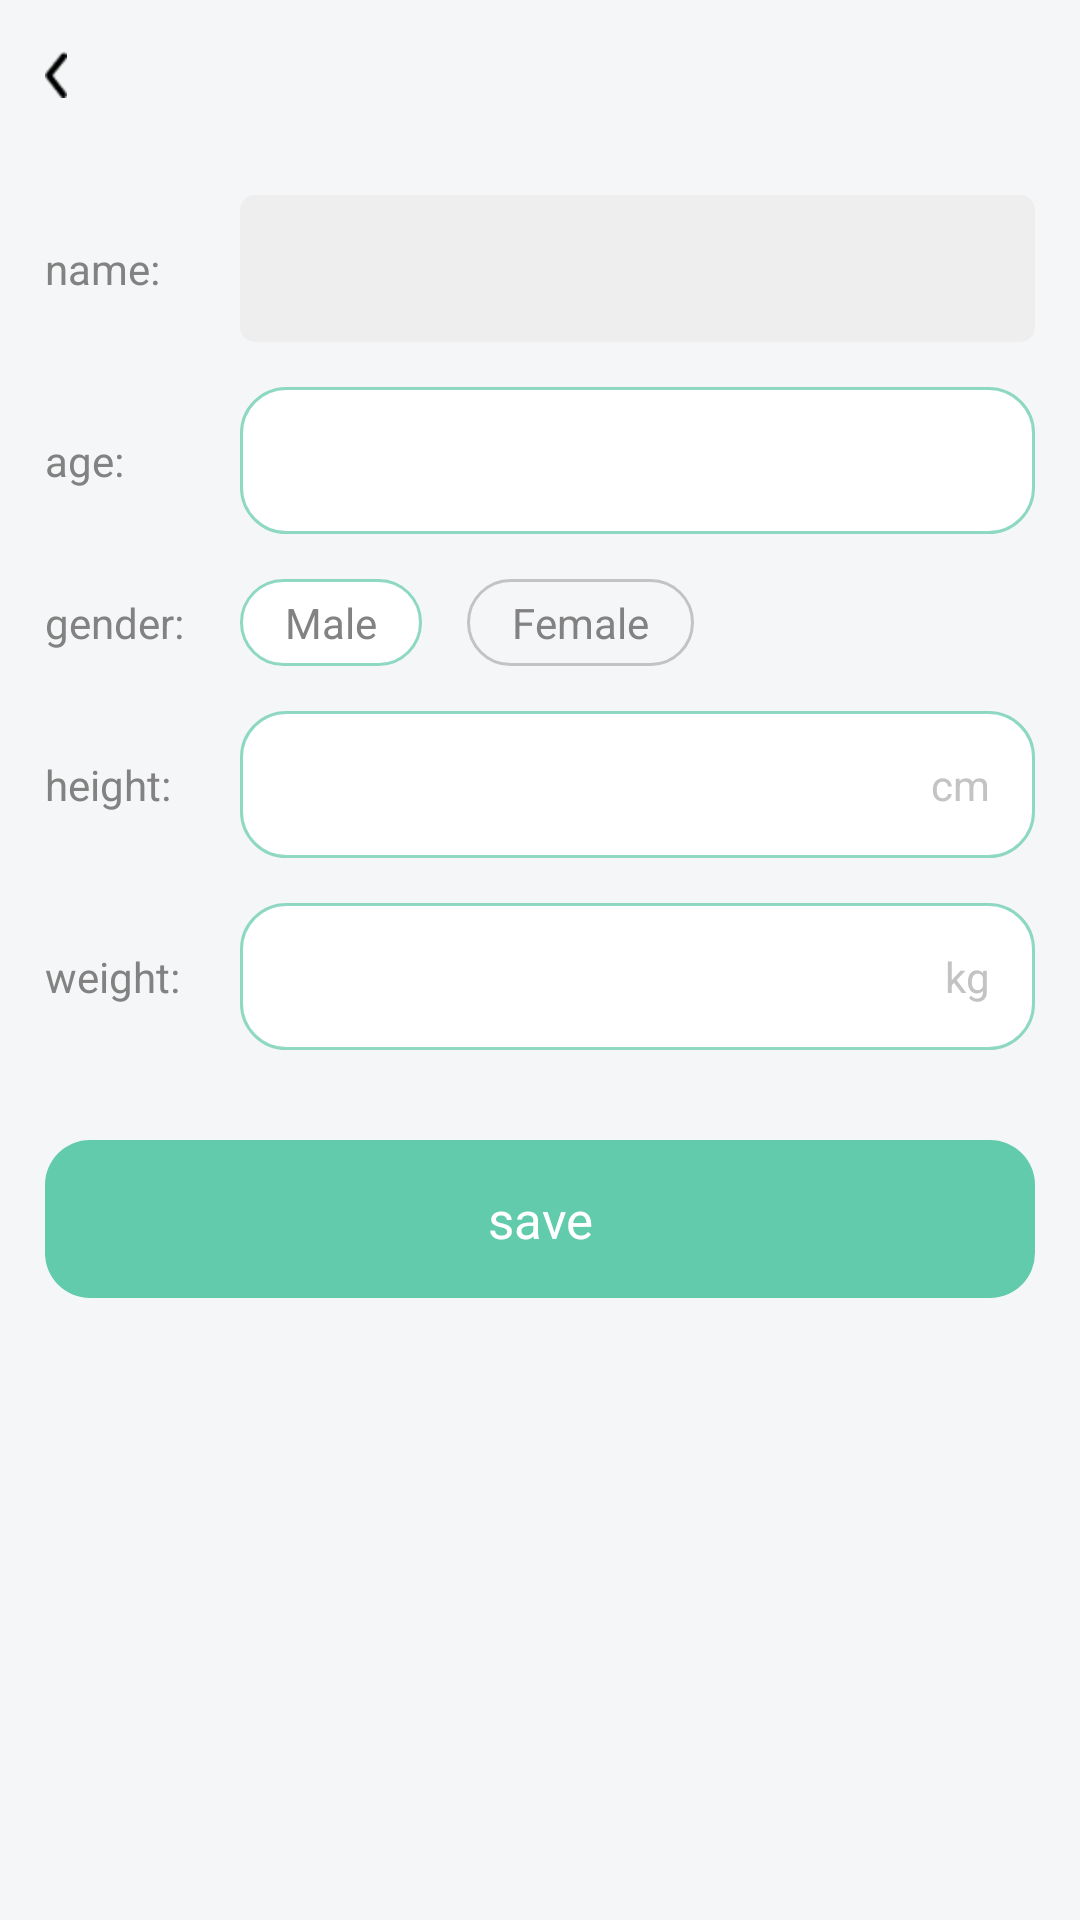

Icons on this 1080 x 1920 Android screen, each with its box as (x1, y1, x2, y2):
left: (45, 52, 67, 98)
